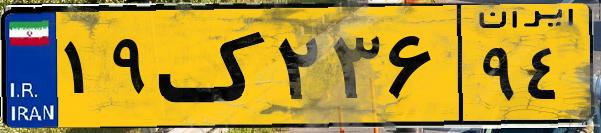1: (57, 26, 110, 100)
2: (270, 28, 330, 110)
3: (330, 28, 385, 110)
4: (525, 38, 570, 115)
6: (385, 28, 445, 110)
9: (475, 38, 525, 113), (110, 28, 158, 98)
ک: (158, 12, 270, 120)
